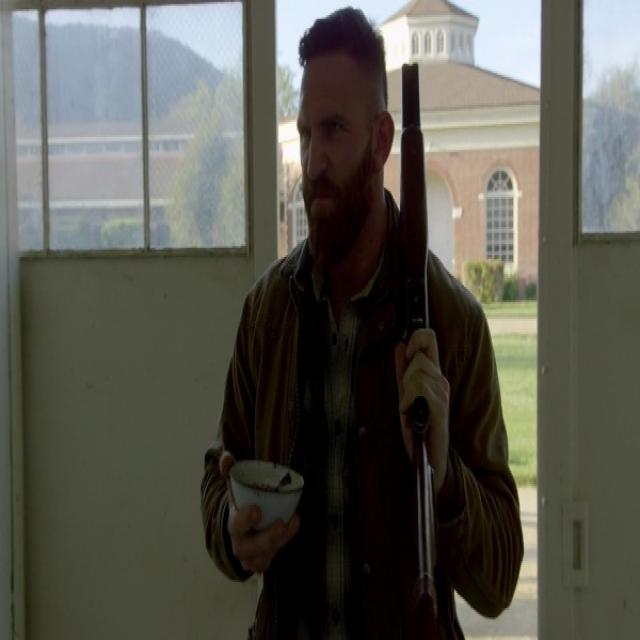rifle: (387, 54, 454, 640)
